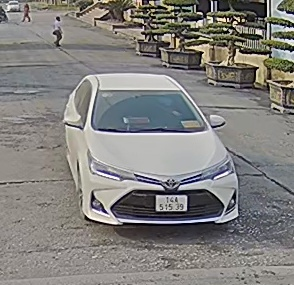vehicle plate: (151, 190, 189, 213)
